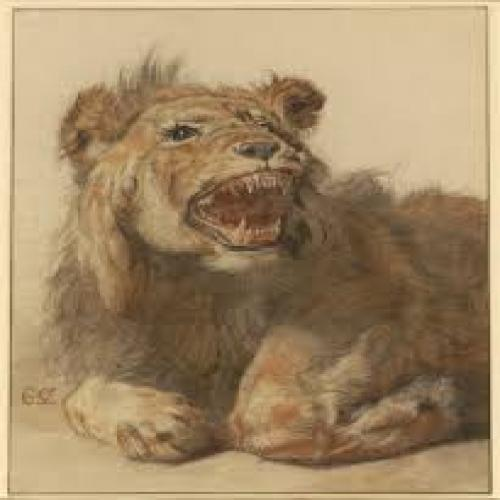lion-endangered: (46, 73, 485, 464)
